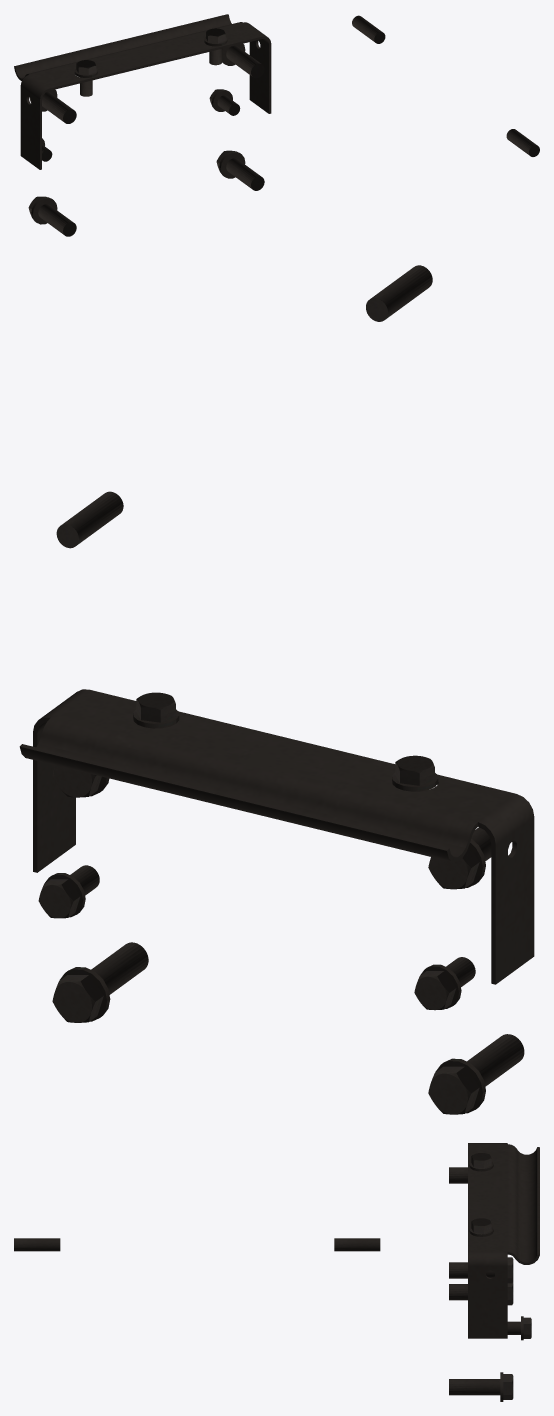
The model's file is add_sp6_parts.fbx.
3 views of the same model, one above another, from view 1: azimuth 30°, elevation 25°; view 2: azimuth 150°, elevation 25°; view 3: azimuth 270°, elevation 25° (orthographic). The views are drawn at different scales.
Visible parts, largest first — view 1: sp6143, Box004, Box005, Box002; view 2: sp6143, Box004, Box005, Box002; view 3: sp6143, Box004, Box002, Box005.
Part boxes in pixels (x1,y1,x2,y2): sp6143: (14, 14, 271, 169); Box004: (28, 15, 539, 236); Box005: (204, 28, 227, 65); Box002: (74, 60, 97, 96); sp6143: (19, 689, 534, 984); Box004: (38, 265, 524, 1114); Box005: (133, 692, 179, 728); Box002: (392, 755, 438, 791); sp6143: (468, 1143, 539, 1338); Box004: (14, 1167, 531, 1401); Box002: (469, 1153, 493, 1171); Box005: (469, 1218, 493, 1236).
Size of the model in its own units: 0.2526 by 0.162 by 0.3953.
